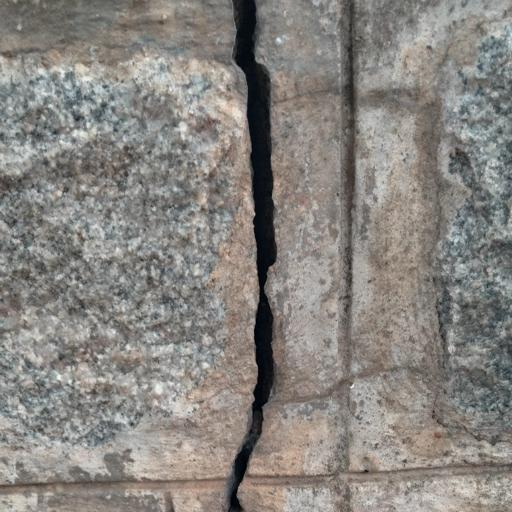major_crack: (221, 0, 291, 512)
